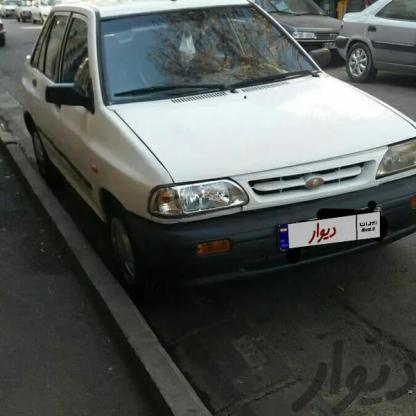Car: (0, 0, 416, 286), (339, 3, 416, 89), (267, 0, 347, 55), (0, 0, 34, 23)
